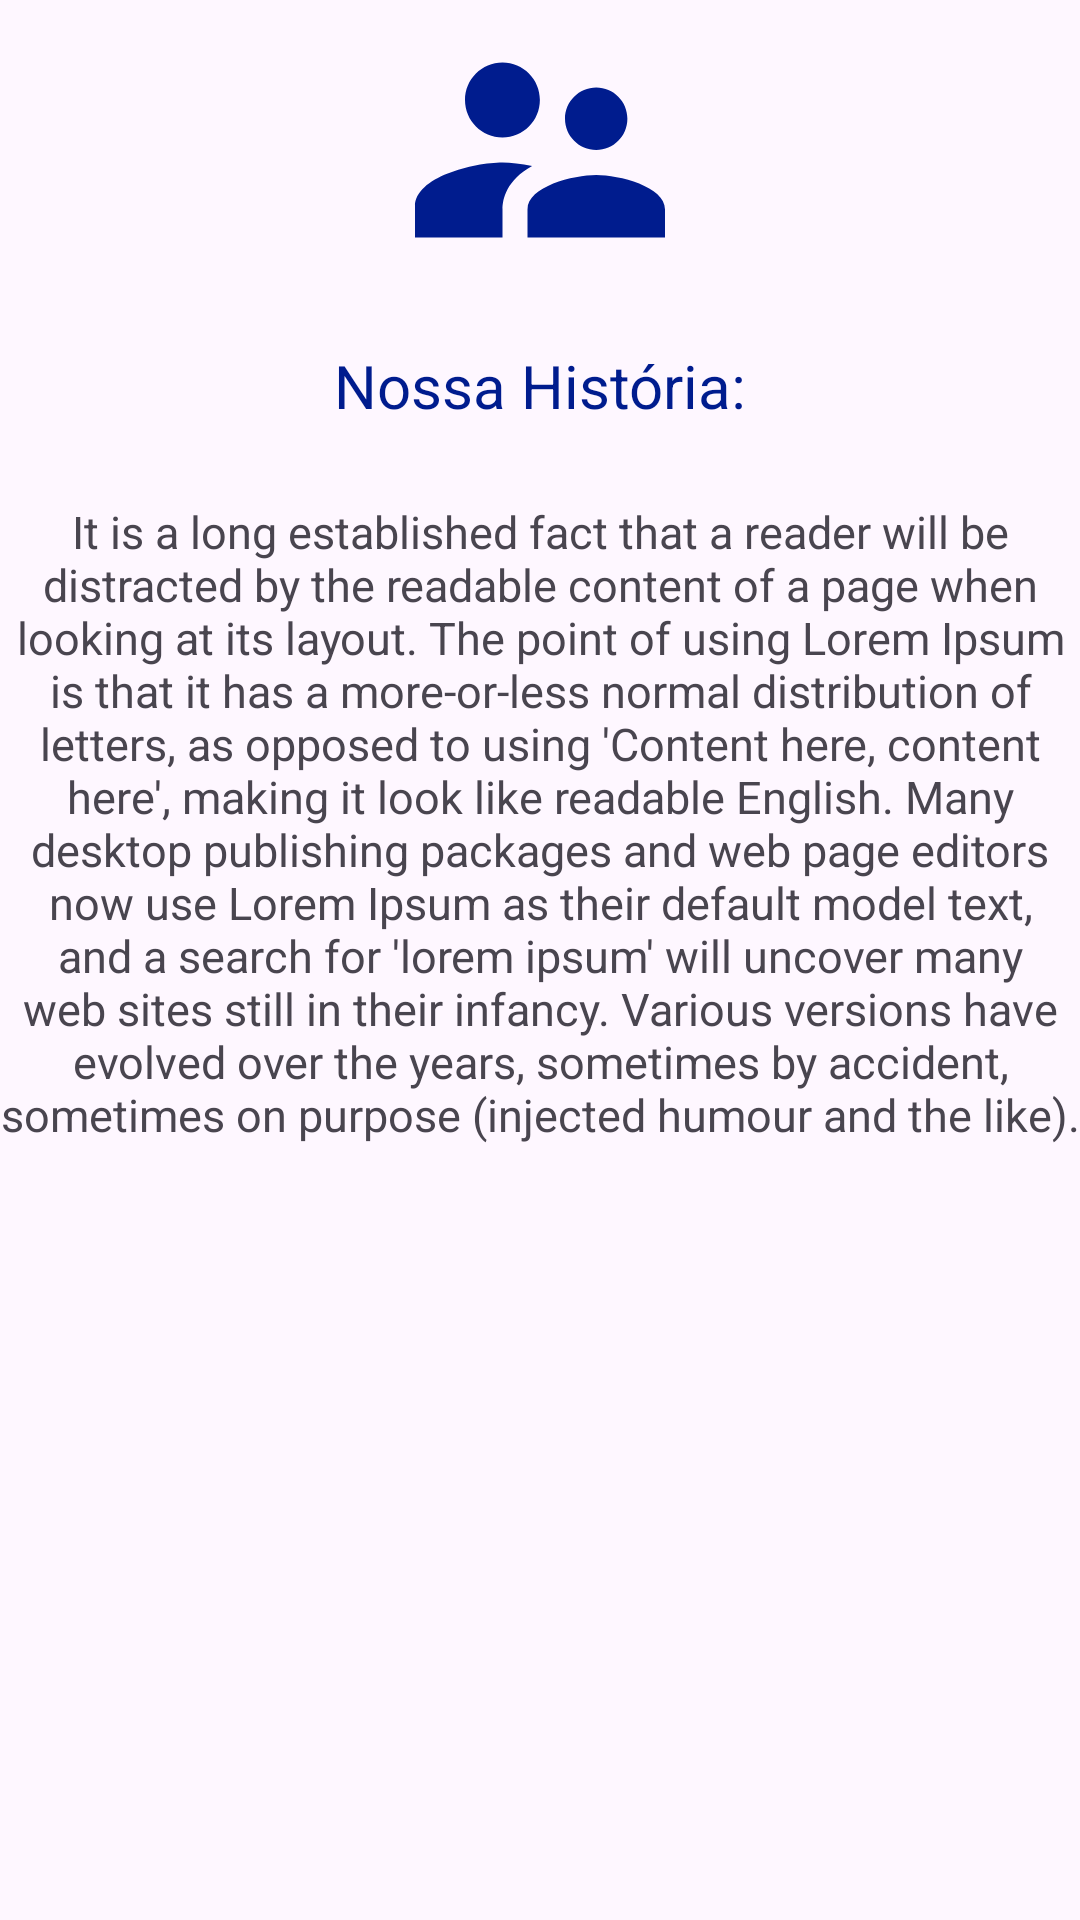

Point at icon controls on the screen. Image size 1080×1920, points as (x=x, y=y).
sobre: (x=540, y=150)
